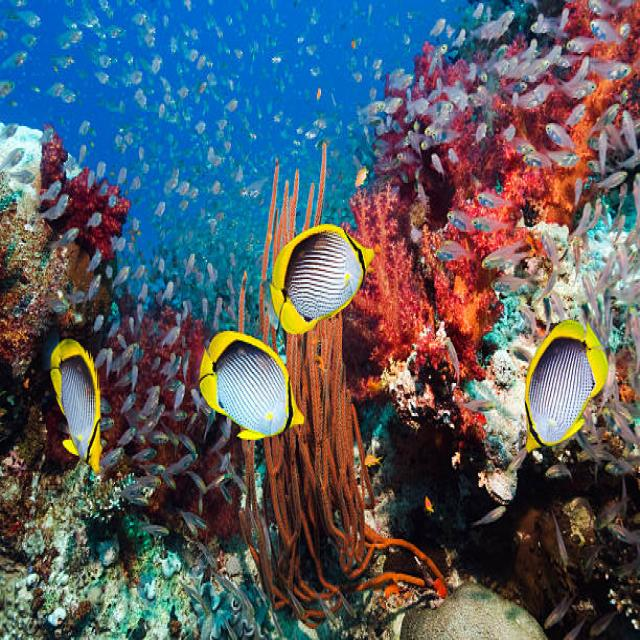ButterflyFish: (200, 334, 306, 451), (524, 325, 610, 459), (272, 225, 376, 333), (52, 340, 102, 474), (582, 395, 582, 400)
